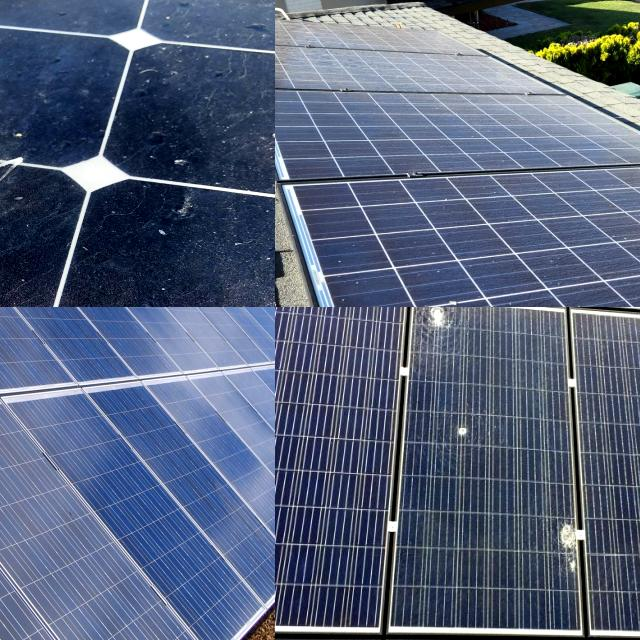bird: (0, 137, 123, 299)
crack: (16, 393, 275, 640), (0, 404, 236, 640), (86, 364, 275, 610), (127, 348, 275, 603), (155, 336, 275, 572), (0, 307, 165, 442), (0, 307, 184, 423), (0, 307, 142, 455), (49, 307, 217, 409), (0, 307, 88, 463)
hotspot: (544, 498, 594, 611), (442, 398, 487, 457), (499, 307, 554, 348), (416, 307, 456, 346)
